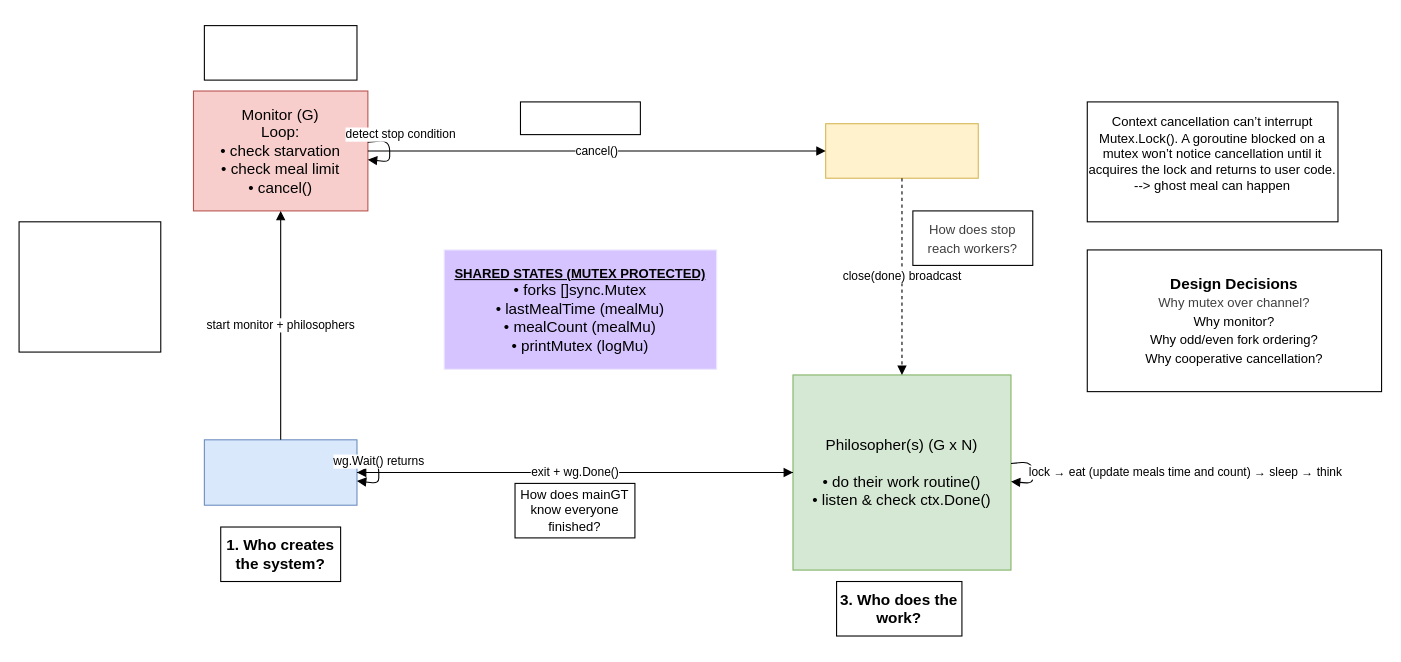
This 1401x662 diagram has some shape labels left out. The centre of each missing label's shape, as x and y in pixels:
"2. Who supervises global state?" belongs at pixel 280 52.
"Context" belongs at pixel 901 150.
"Run() wg created in init context created in init" belongs at pixel 280 472.
"sends the stop signal" belongs at pixel 579 118.
"This answers: The roles Who Exists & Who Owns What" belongs at pixel 89 286.
